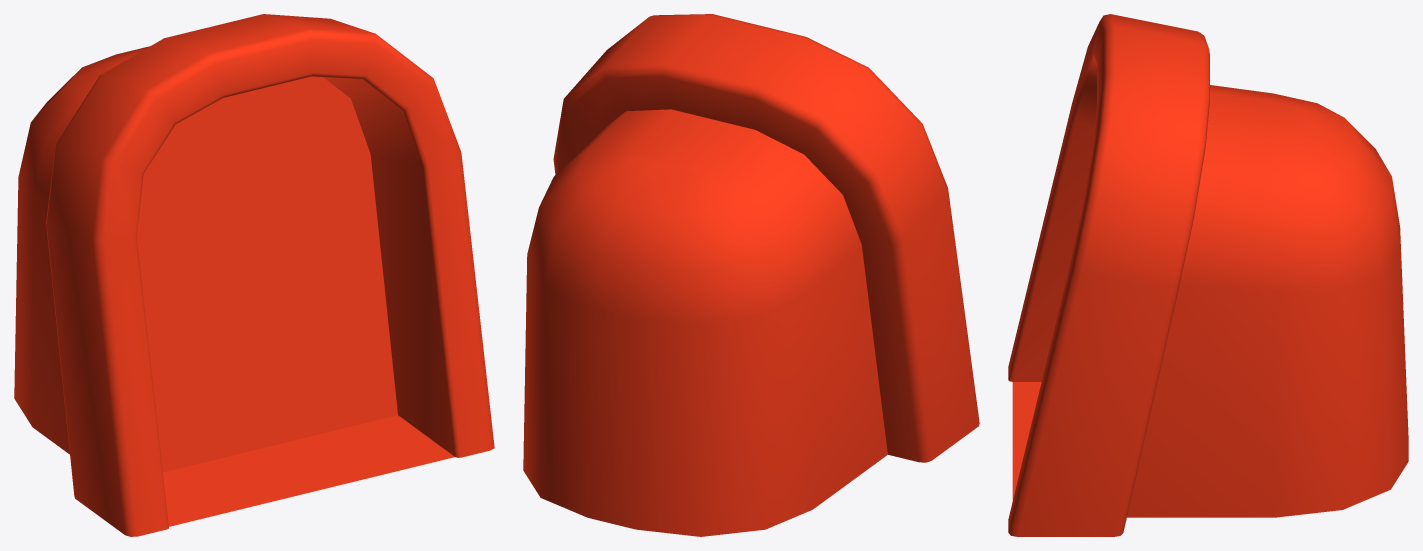
File: pipe.fbx
The picture shows the model from 3 angles, left to right: view 1: azimuth 30°, elevation 25°; view 2: azimuth 150°, elevation 25°; view 3: azimuth 270°, elevation 25°; orthographic projection. The views are drawn at different scales.
Parts seen in each view (by area): view 1: pipe; view 2: pipe; view 3: pipe.
Part boxes in pixels (x1=…): pipe: x1=14, y1=14, x2=494, y2=536; pipe: x1=523, y1=14, x2=979, y2=536; pipe: x1=1008, y1=14, x2=1408, y2=536.
Bounding box in the file's own units: 257 × 275 × 249.
